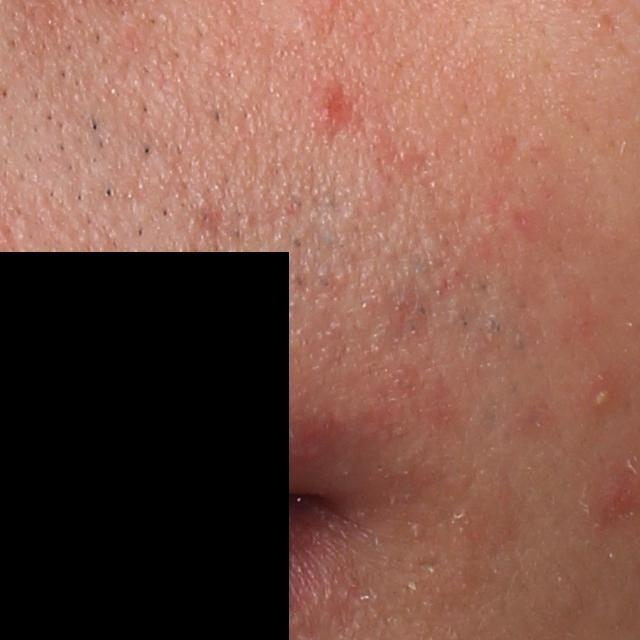papule: (303, 82, 362, 130)
